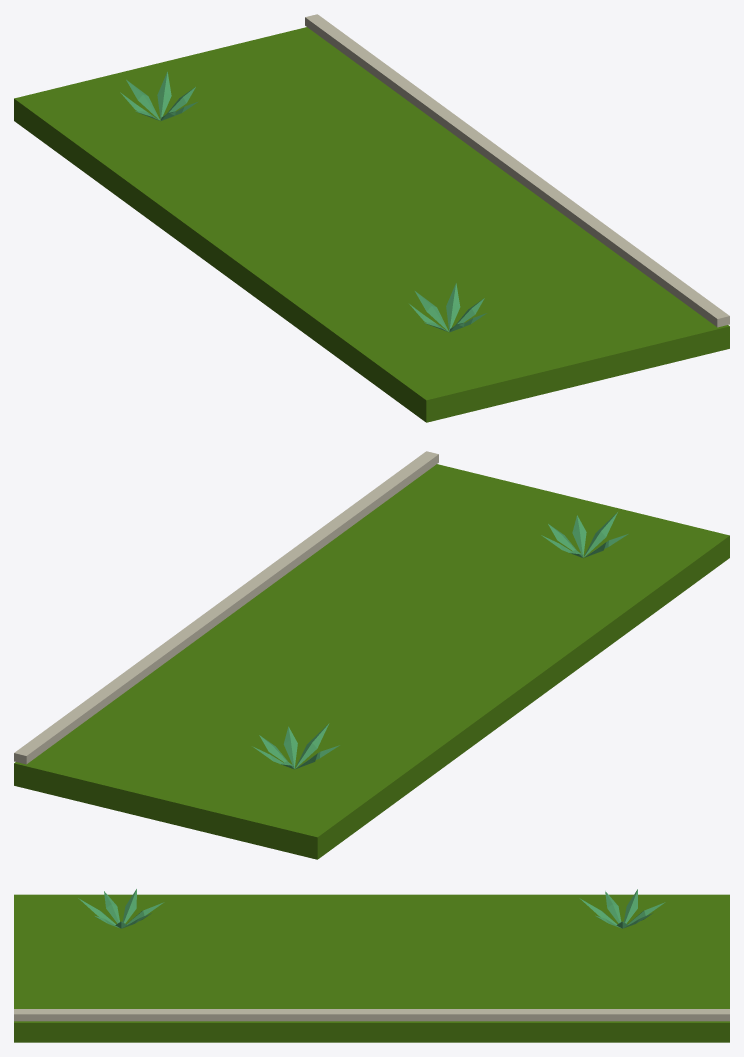
Rendered from inland_strip_8m.glb.
The picture shows the model from 3 angles, top to bottom: view 1: azimuth 30°, elevation 25°; view 2: azimuth 150°, elevation 25°; view 3: azimuth 270°, elevation 25°; orthographic projection. The views are drawn at different scales.
Visible parts, largest first — view 1: inland_strip_8m; view 2: inland_strip_8m; view 3: inland_strip_8m.
Boxes of the visible parts, left/top/right/bottom form: inland_strip_8m: left=14, top=14, right=729, bottom=422; inland_strip_8m: left=14, top=451, right=729, bottom=859; inland_strip_8m: left=14, top=889, right=729, bottom=1042.
Bounding box in the file's own units: 3.4 × 0.59 × 8.
